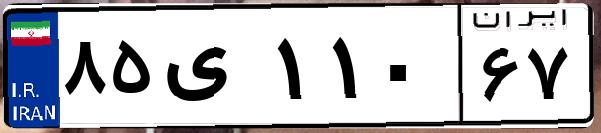0: (385, 28, 445, 110)
1: (270, 28, 330, 110), (330, 28, 385, 110)
5: (110, 28, 158, 98)
6: (475, 38, 525, 113)
7: (525, 38, 570, 115)
8: (57, 26, 110, 100)
ی: (158, 20, 270, 120)
